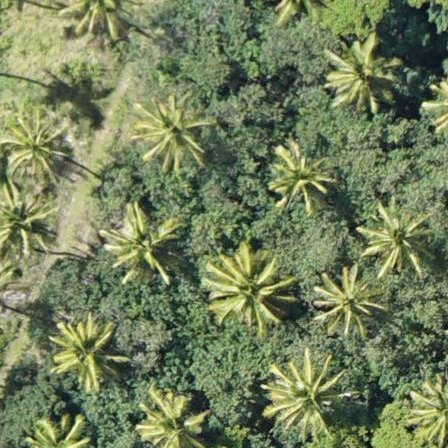palm_tree: (203, 245, 289, 330), (265, 356, 345, 436), (131, 89, 203, 166), (103, 209, 175, 282), (1, 108, 73, 181), (47, 320, 121, 387), (363, 203, 432, 273), (264, 143, 332, 212), (331, 44, 398, 113), (1, 185, 59, 258), (314, 271, 378, 336), (137, 390, 207, 448)
